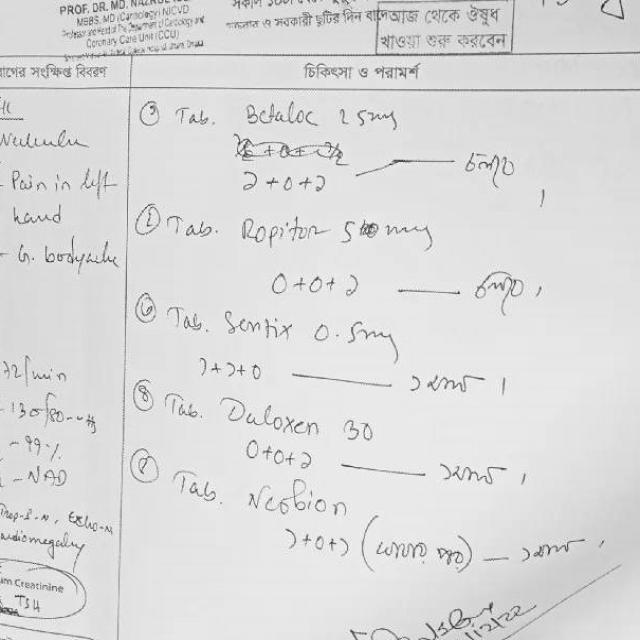medicine: (212, 388, 325, 443), (240, 477, 354, 522), (215, 300, 302, 348), (234, 208, 322, 252), (234, 99, 323, 131)
